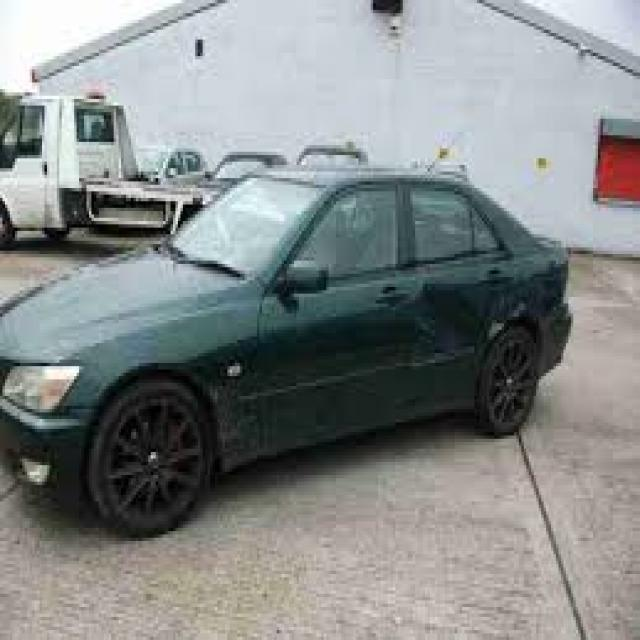minor: (398, 255, 606, 366)
